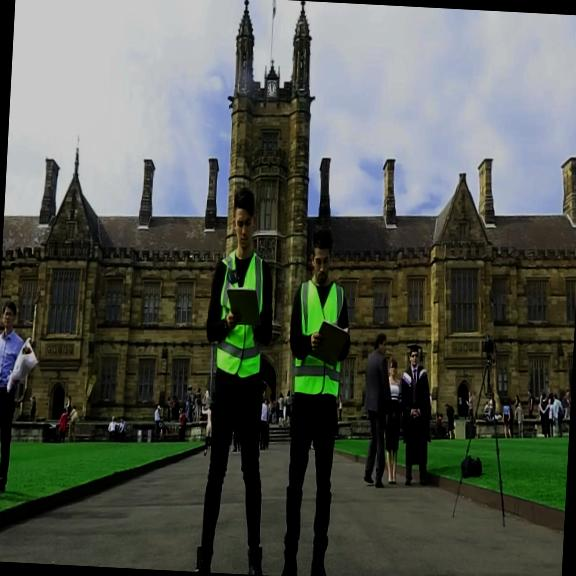safety_vest: (214, 246, 267, 376), (292, 277, 344, 399)
